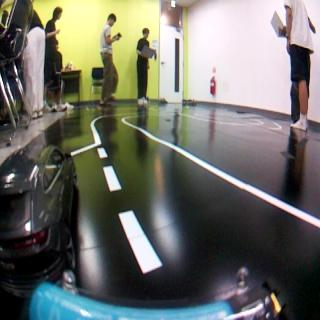car: (0, 143, 76, 303)
